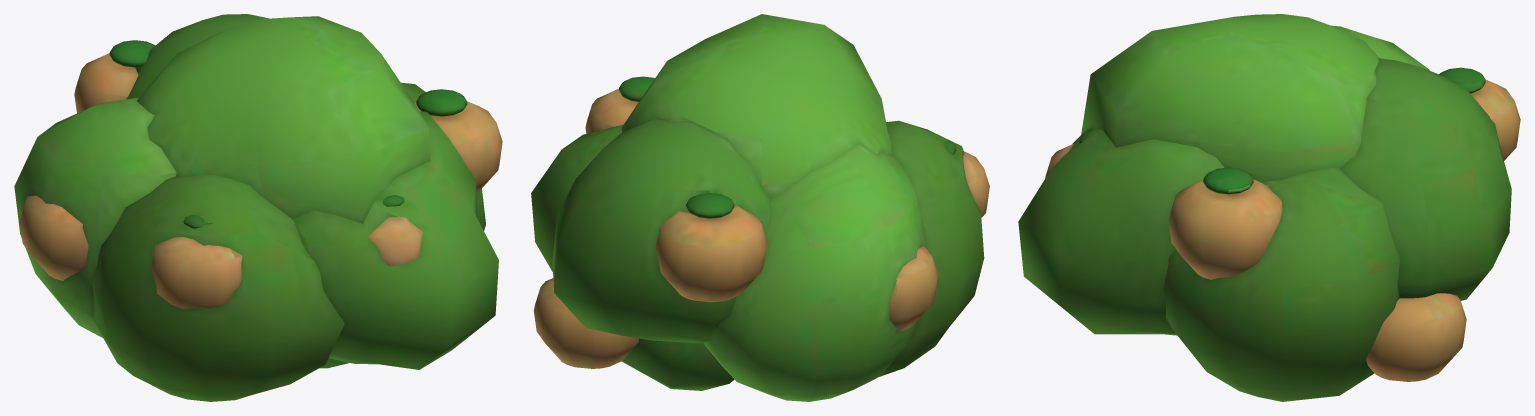
The model's file is crop_peanut.glb.
3 views of the same model, side by side, from view 1: azimuth 30°, elevation 25°; view 2: azimuth 150°, elevation 25°; view 3: azimuth 270°, elevation 25° (orthographic). The views are drawn at different scales.
Parts seen in each view (by area): view 1: crop_peanut, fruit; view 2: crop_peanut, fruit; view 3: crop_peanut, fruit.
Part boxes in pixels (left/top/right/bottom): crop_peanut: left=14, top=14, right=498, bottom=401; fruit: left=19, top=53, right=502, bottom=309; crop_peanut: left=531, top=14, right=984, bottom=401; fruit: left=534, top=88, right=989, bottom=368; crop_peanut: left=1018, top=14, right=1511, bottom=401; fruit: left=1045, top=80, right=1520, bottom=381.
Size of the model in its own units: 0.2659 by 0.2091 by 0.275.
Materials: 1 (1 with a texture image).
